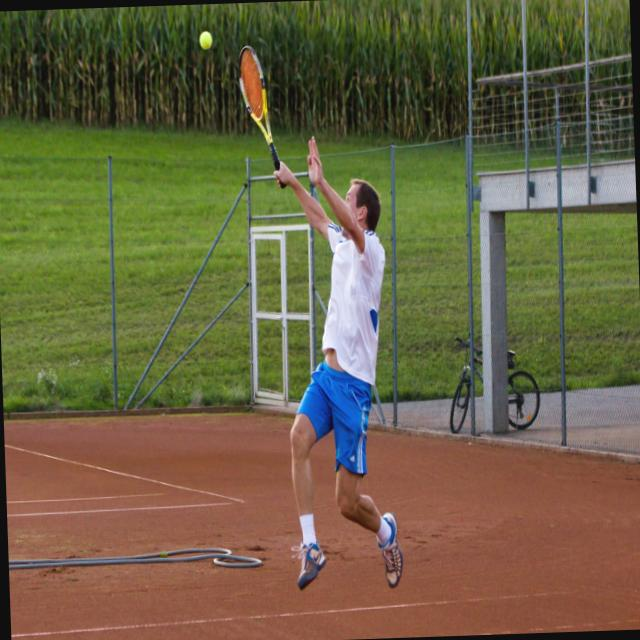Tennis Ball: (200, 32, 212, 50)
